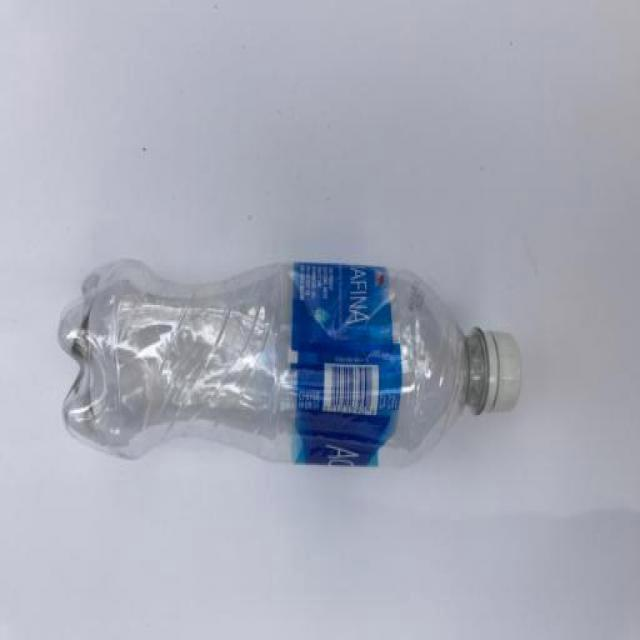bottle: (57, 259, 522, 467)
